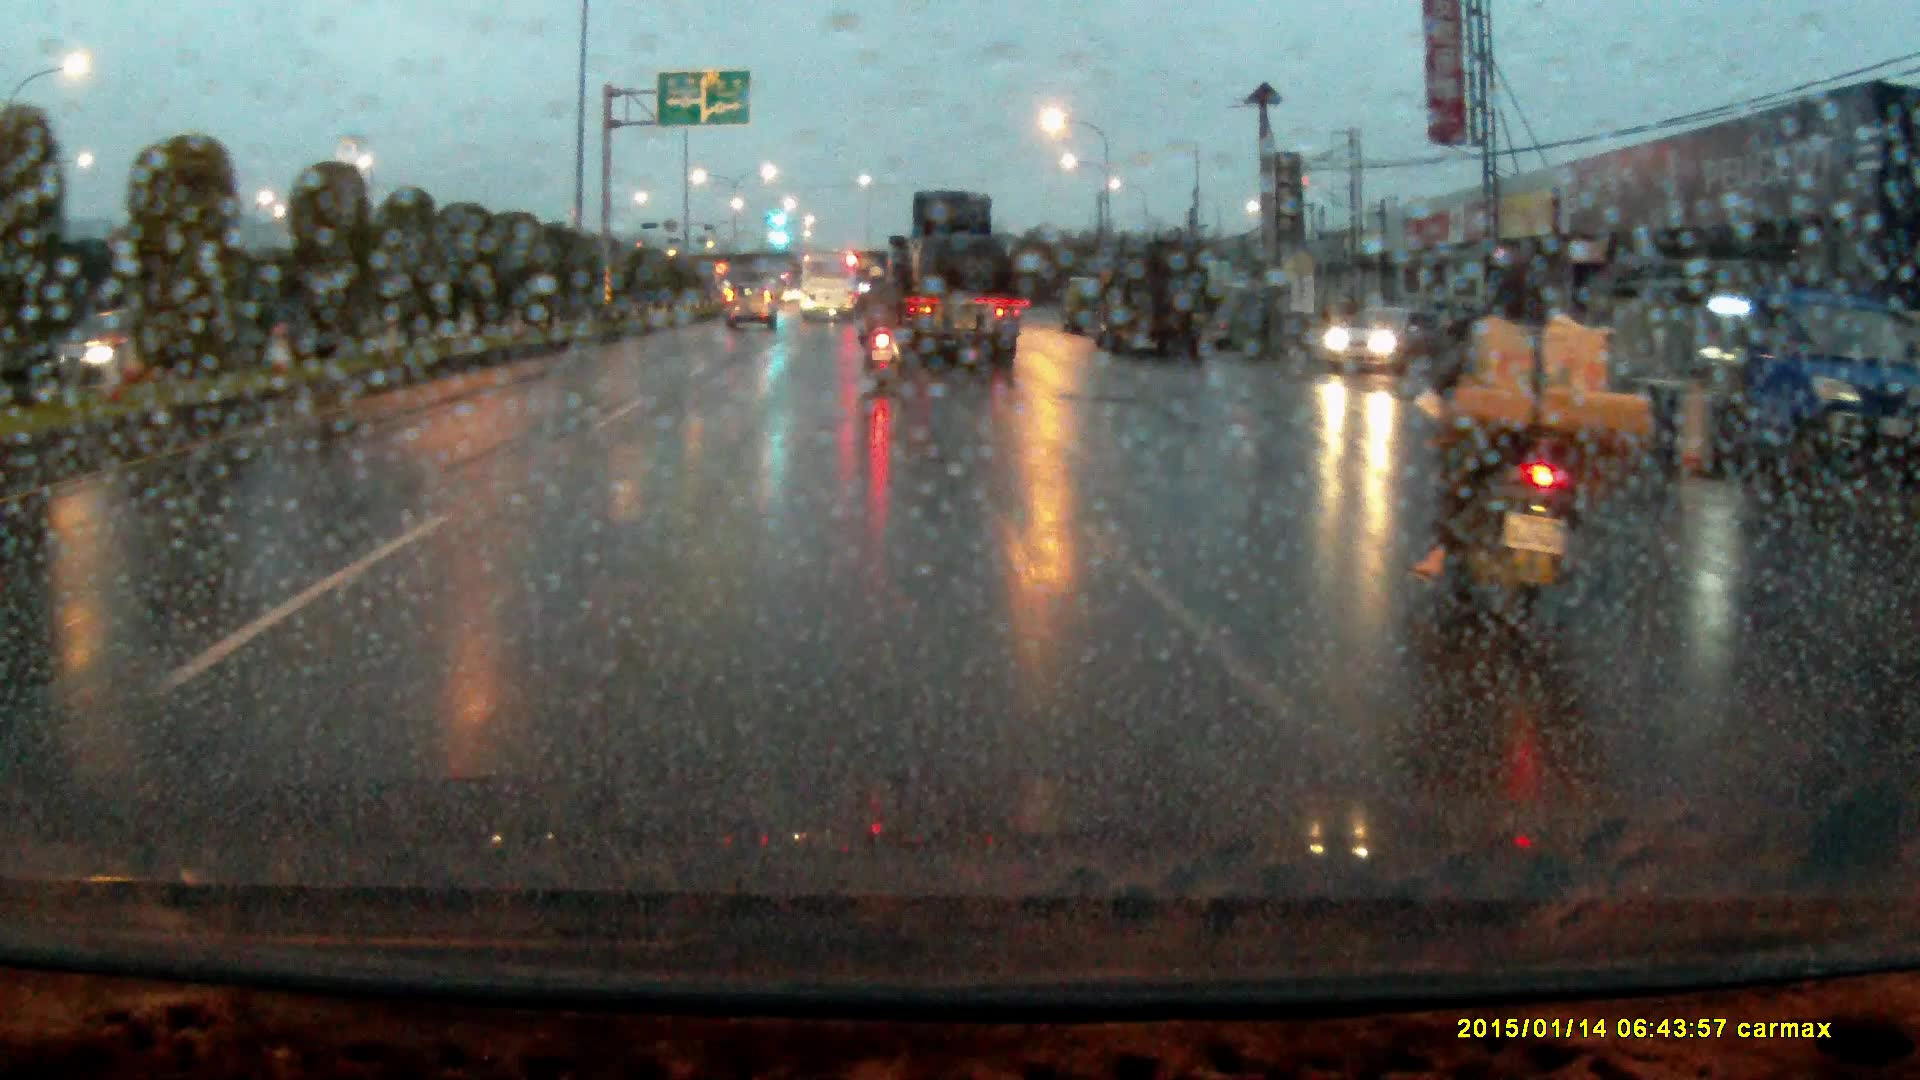rider: (1412, 250, 1663, 665), (855, 265, 909, 384)
vehicle: (1616, 292, 1905, 479), (875, 196, 1014, 373), (1101, 247, 1219, 368), (1319, 310, 1431, 379), (799, 257, 859, 329), (1059, 279, 1113, 339), (726, 285, 780, 336)
